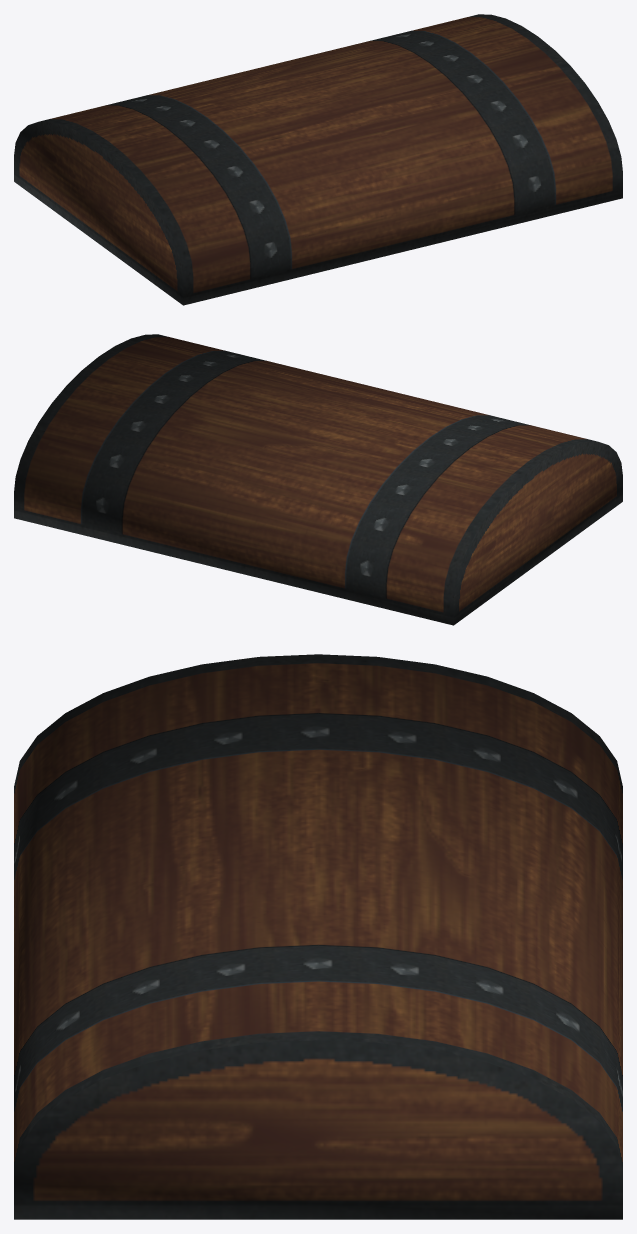
The model's file is chest upperpart.obj.
3 views of the same model, one above another, from view 1: azimuth 30°, elevation 25°; view 2: azimuth 150°, elevation 25°; view 3: azimuth 270°, elevation 25° (orthographic). The views are drawn at different scales.
Parts seen in each view (by area): view 1: Default; view 2: Default; view 3: Default.
Boxes of the visible parts, bbox=[...] form: Default: bbox=[14, 14, 622, 305]; Default: bbox=[14, 334, 622, 625]; Default: bbox=[14, 654, 622, 1219].
Size of the model in its own units: 3 by 0.6501 by 2.
Materials: 1 (1 with a texture image).
